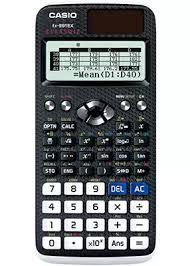Calculator: (26, 0, 162, 266)
